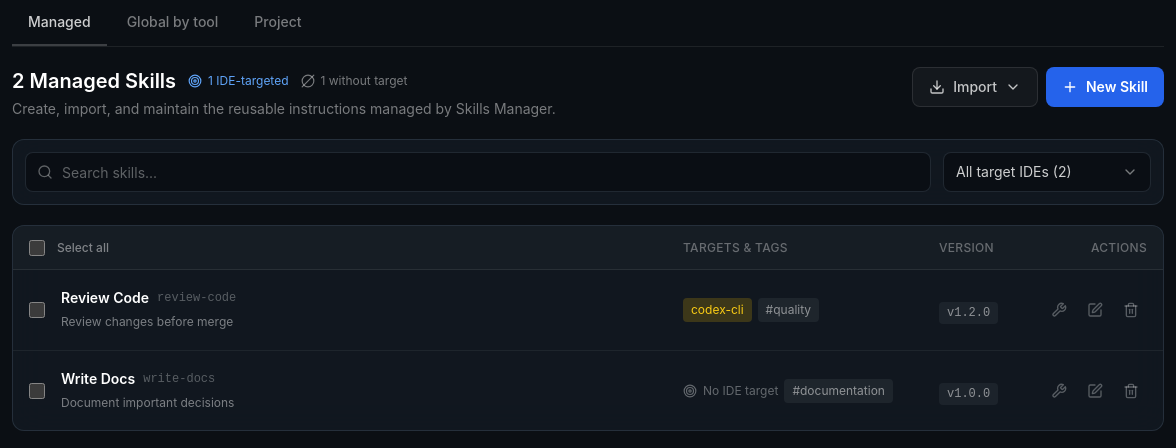
Test: SkillsPage › summarizes and filters managed skills by search and target IDE
Expected: the heading "2 Managed Skills" is shown, x1=12 y1=67 x2=176 y2=95
Expected: the text "1 IDE-targeted" is shown, x1=188 y1=73 x2=288 y2=89
Step 1. Type "documentation" into the search field named "Search managed skills" → (478, 172), box x1=25 y1=152 x2=931 y2=192
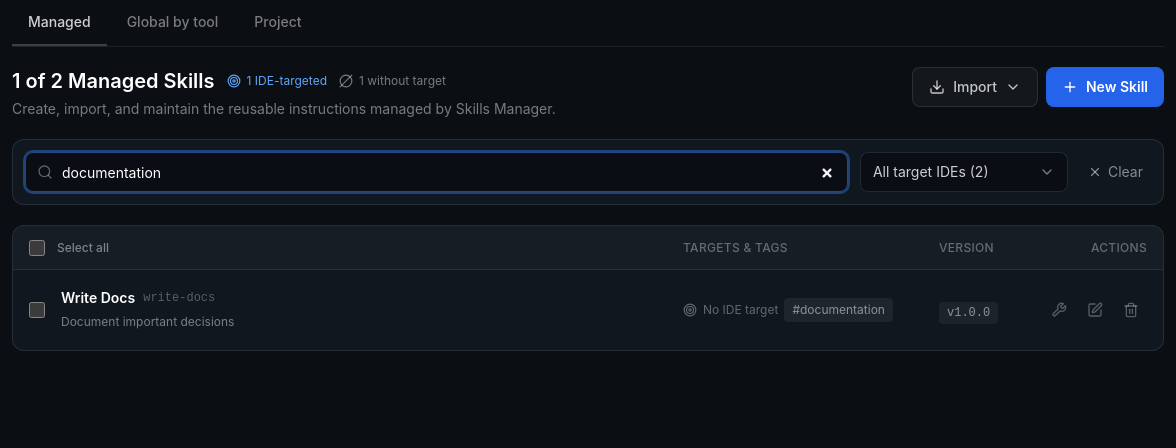
Expected: the heading "Write Docs" is shown, x1=61 y1=288 x2=135 y2=308
Expected: the heading "1 of 2 Managed Skills" is shown, x1=12 y1=67 x2=215 y2=95
Expected: the heading "Review Code" is gone
Step 2. Clear the search field named "Search managed skills" → (436, 172), box x1=25 y1=152 x2=848 y2=192
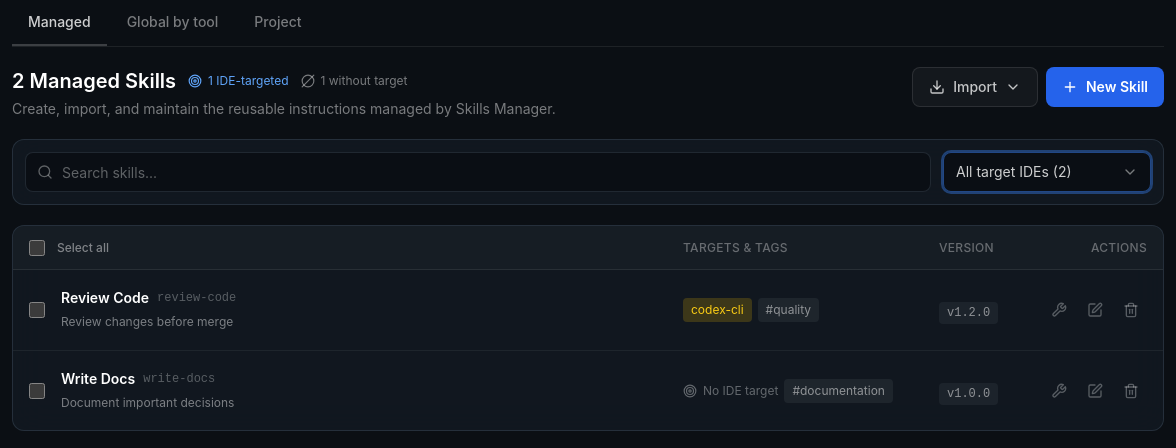
Step 3. Press Enter End Enter
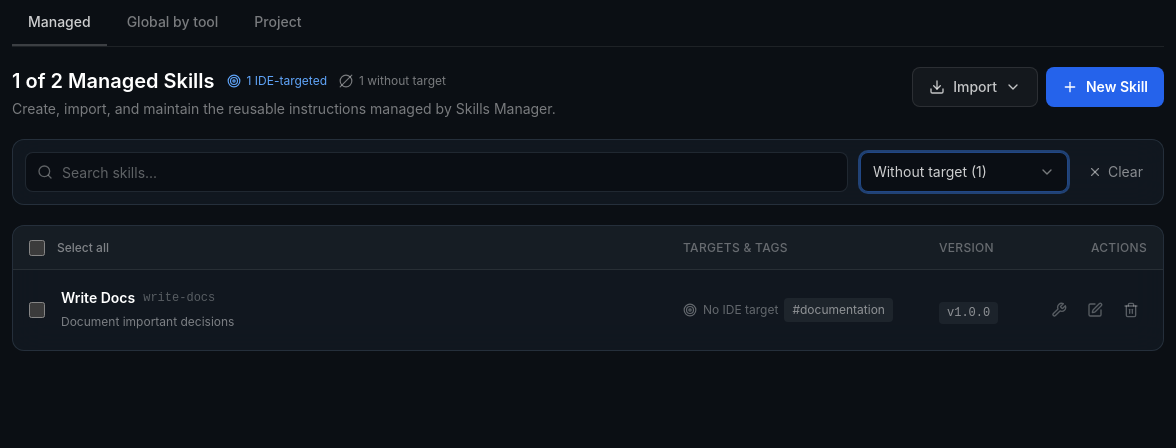
Expected: the heading "Write Docs" is shown, x1=61 y1=288 x2=135 y2=308
Expected: the heading "Review Code" is gone
